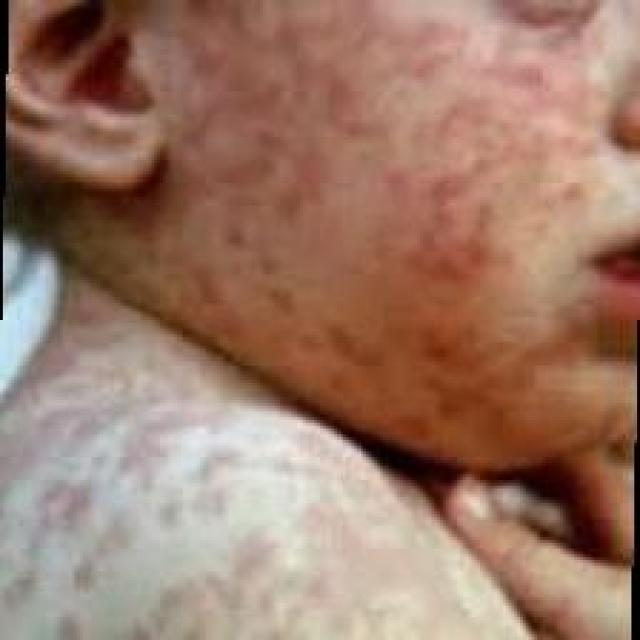others: (1, 3, 638, 640)
